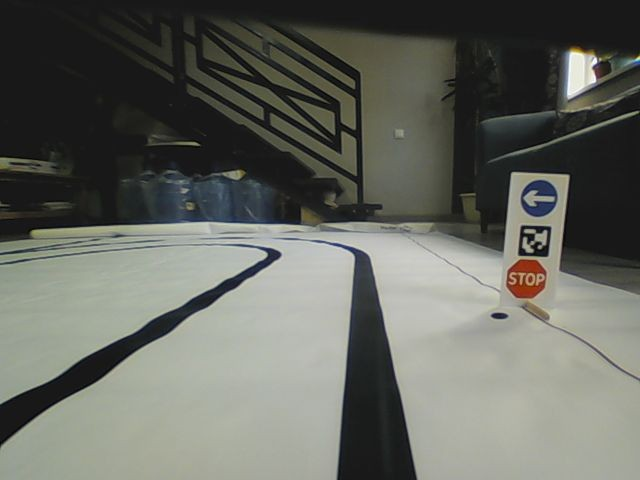Stop: (505, 258, 548, 299)
